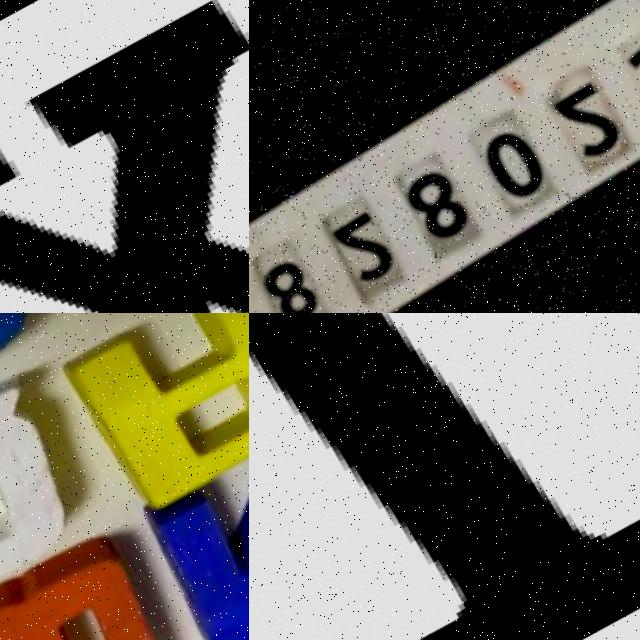0: (443, 92, 583, 240)
2: (517, 49, 640, 198), (298, 182, 428, 313)
3: (592, 1, 640, 150)
7: (249, 265, 285, 313)
8: (365, 130, 508, 284), (249, 227, 352, 313)
I: (249, 313, 640, 640)
N: (139, 400, 249, 640)
Q: (0, 360, 102, 640)
R: (60, 313, 249, 517)
W: (0, 525, 186, 640)
X: (0, 0, 249, 313)
